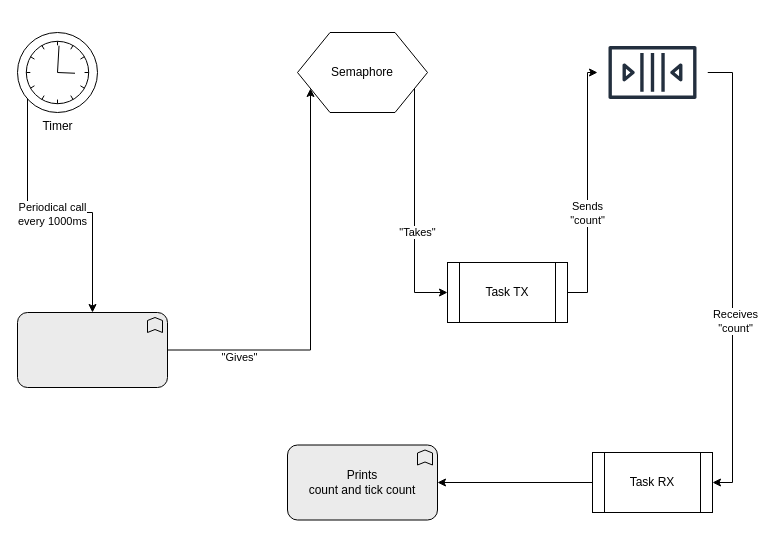
The diagram is 775 pixels wide and 538 high, and some of its shapes have lost their labels. The box of each missing label's shape, as (x1, y1, x2, y2) in pixels:
Callback Function: (16, 312, 168, 388)
Queue: (596, 16, 708, 128)
